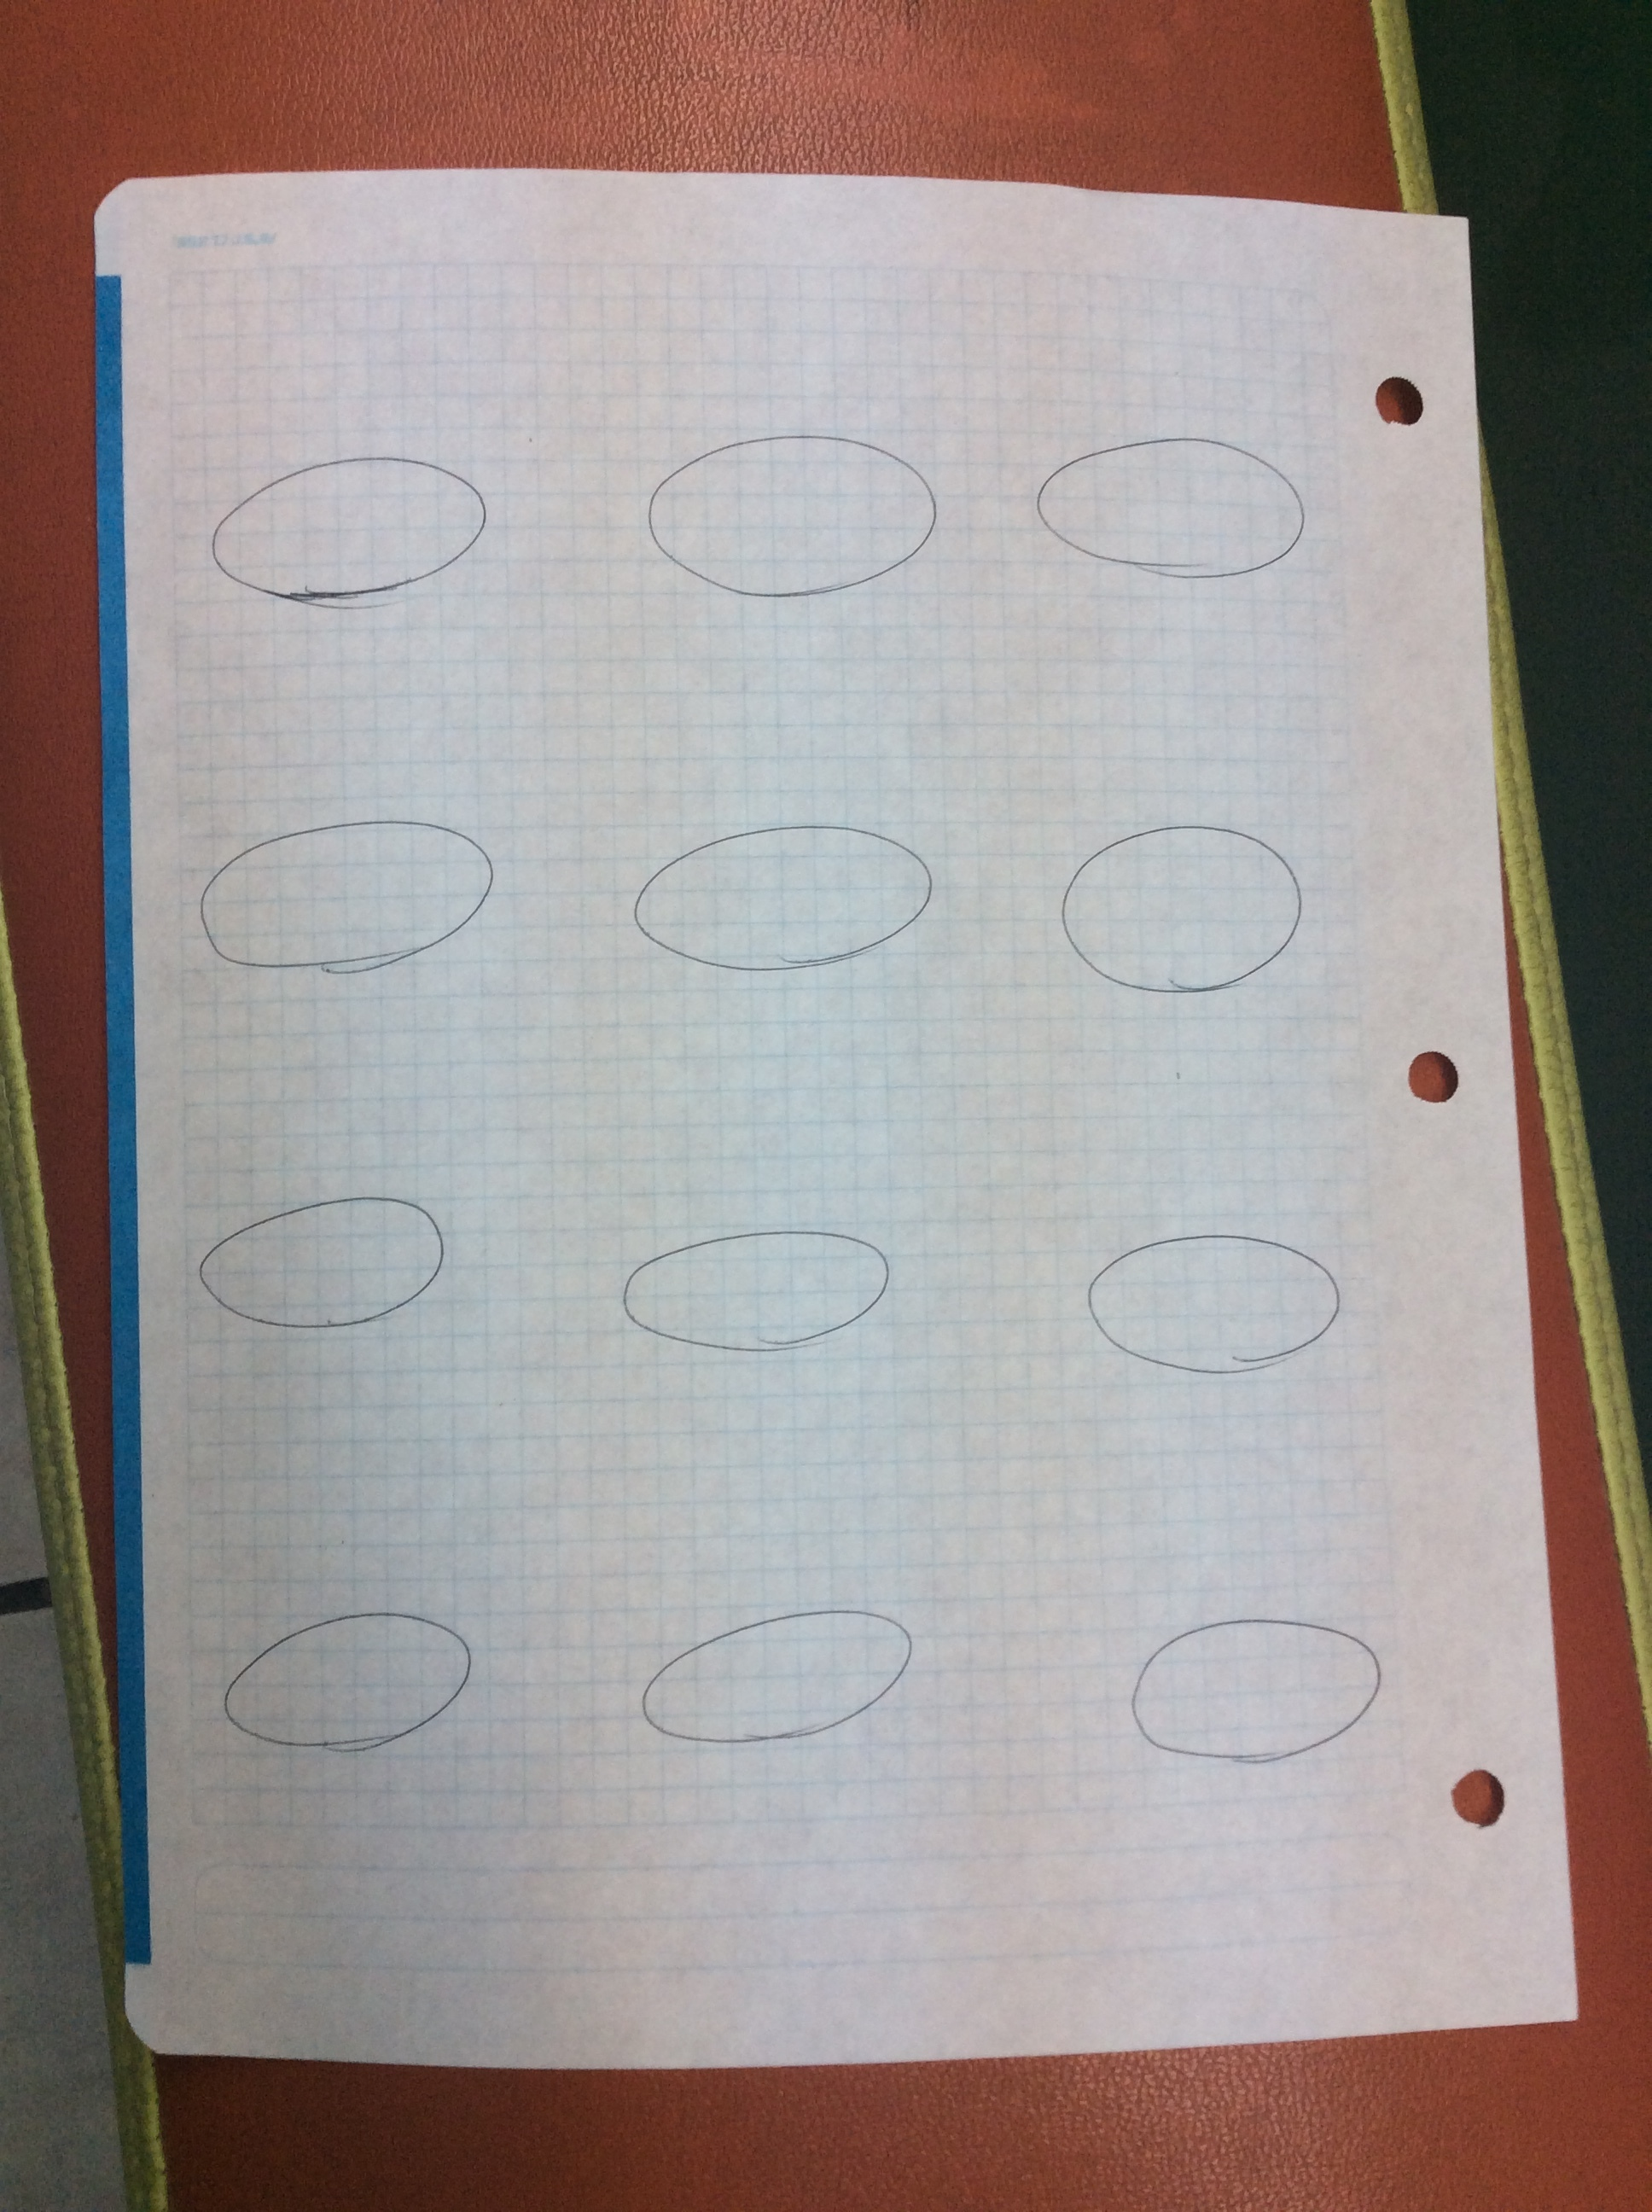start_end: (616, 420, 968, 621), (1012, 406, 1336, 618), (1019, 789, 1322, 1013), (609, 805, 954, 994), (175, 808, 514, 994), (1078, 1601, 1404, 1792), (200, 434, 503, 632), (606, 1598, 954, 1768), (193, 1594, 489, 1782), (602, 1206, 920, 1379), (172, 1171, 475, 1348), (1067, 1225, 1364, 1393)
